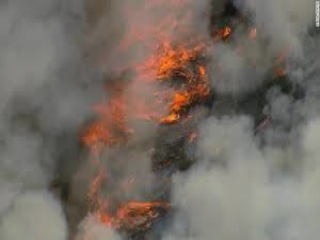fire: (89, 27, 209, 142), (84, 176, 172, 232)
smoke: (211, 12, 317, 168)
